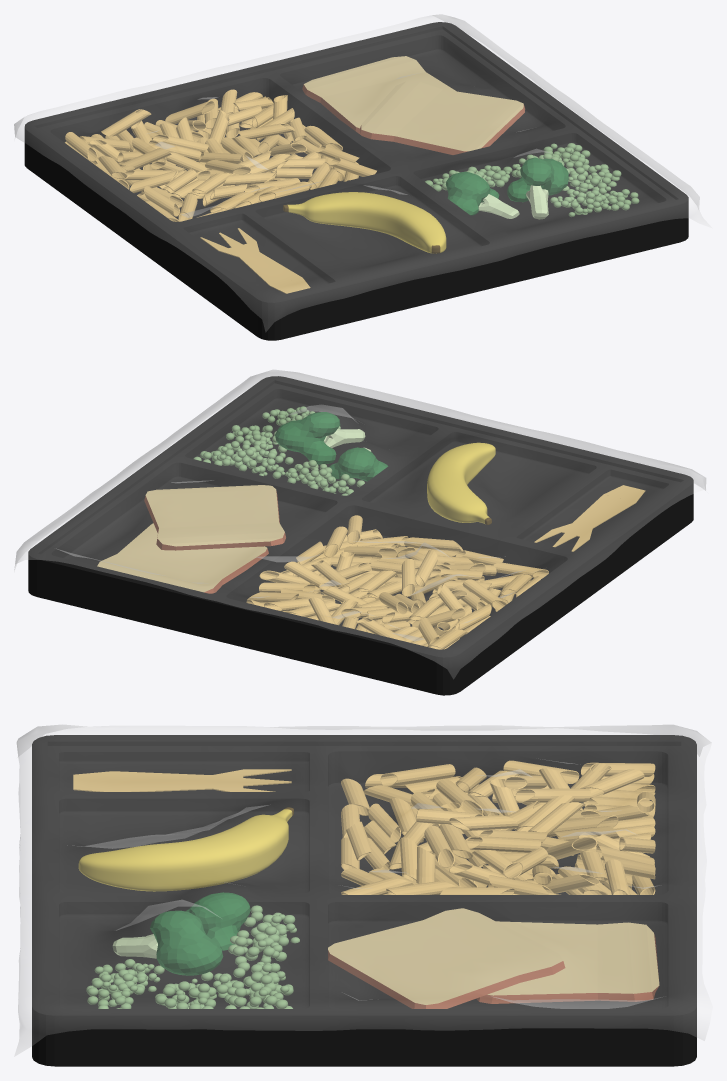
The model's file is pastaLunch.glb.
The picture shows the model from 3 angles, top to bottom: view 1: azimuth 30°, elevation 25°; view 2: azimuth 150°, elevation 25°; view 3: azimuth 270°, elevation 25°; orthographic projection. The views are drawn at different scales.
Parts seen in each view (by area): view 1: baked; view 2: baked; view 3: baked.
Part boxes in pixels (x1,y1,x2,y2): baked: [14, 14, 711, 340]; baked: [14, 369, 705, 695]; baked: [14, 724, 712, 1066].
Bounding box in the file's own units: 2 × 0.4 × 2.
